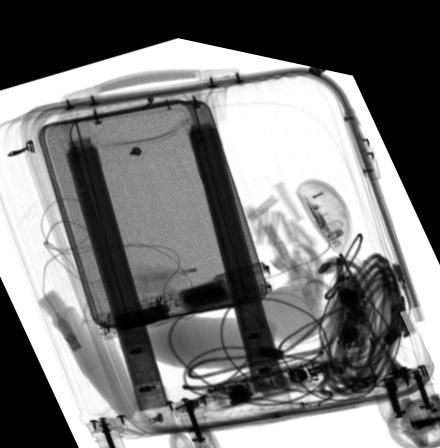Baton: (89, 250, 272, 336)
